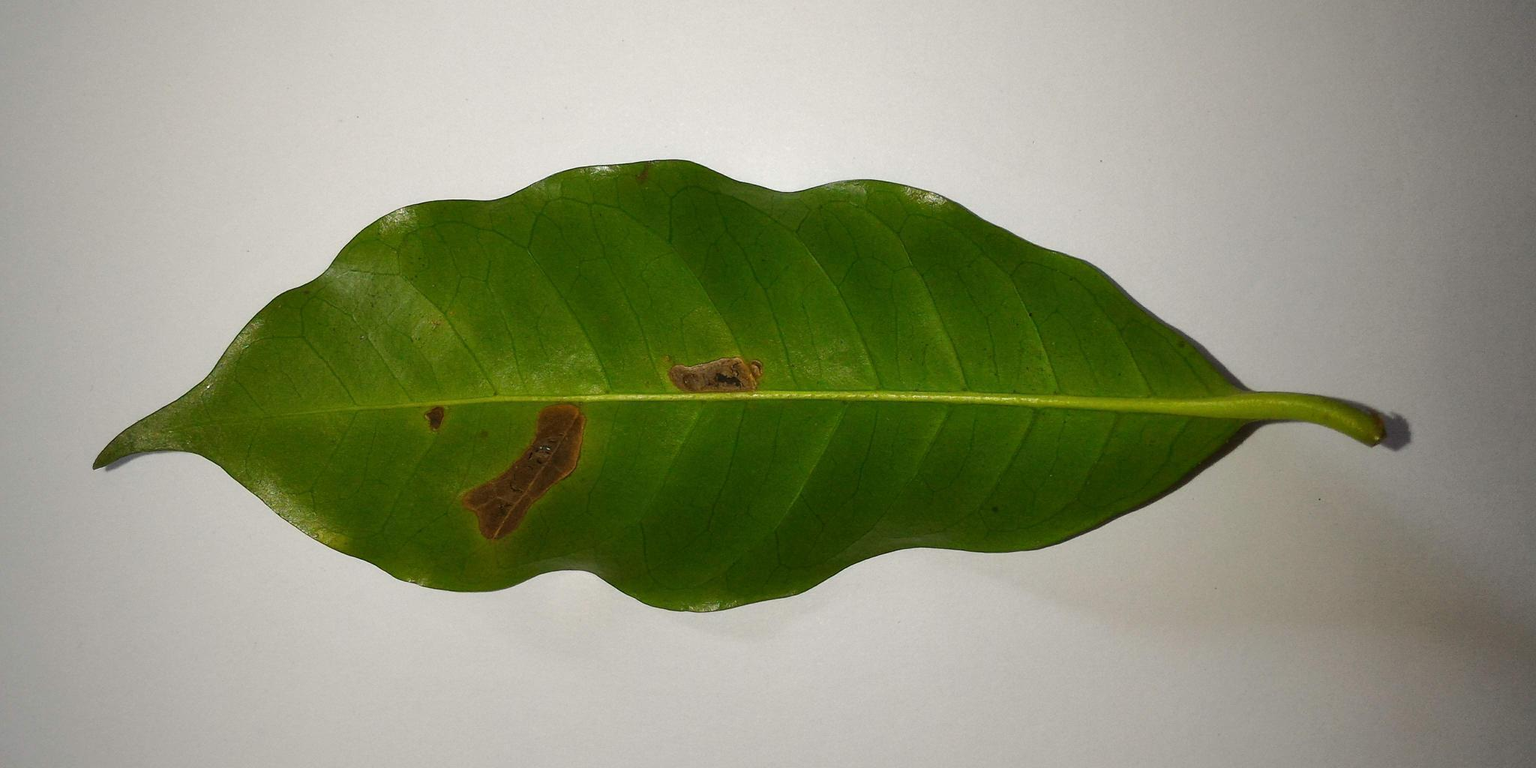Miner: (455, 396, 596, 545), (649, 334, 775, 415)
